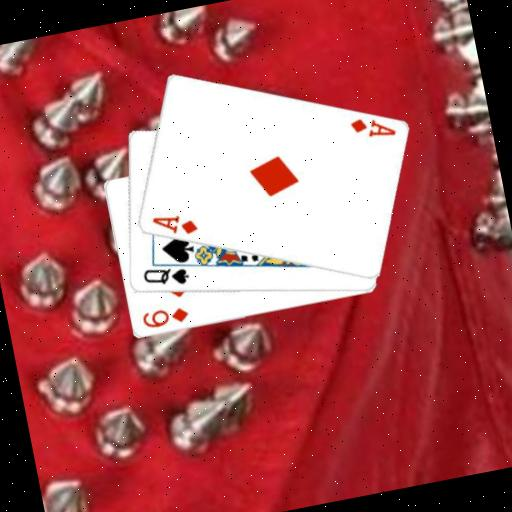6D: (138, 302, 191, 332)
AD: (148, 207, 201, 243), (345, 110, 398, 146)
QS: (139, 259, 193, 294)
